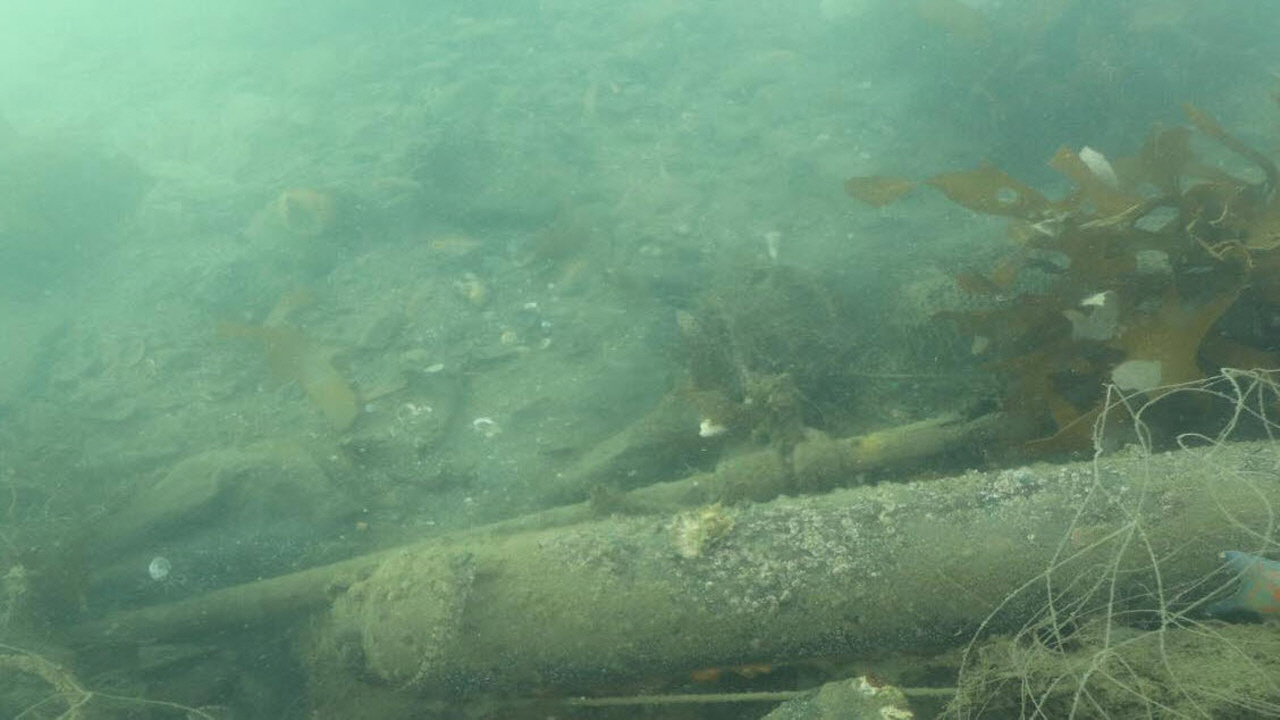eel fish trap: (325, 436, 1278, 711)
